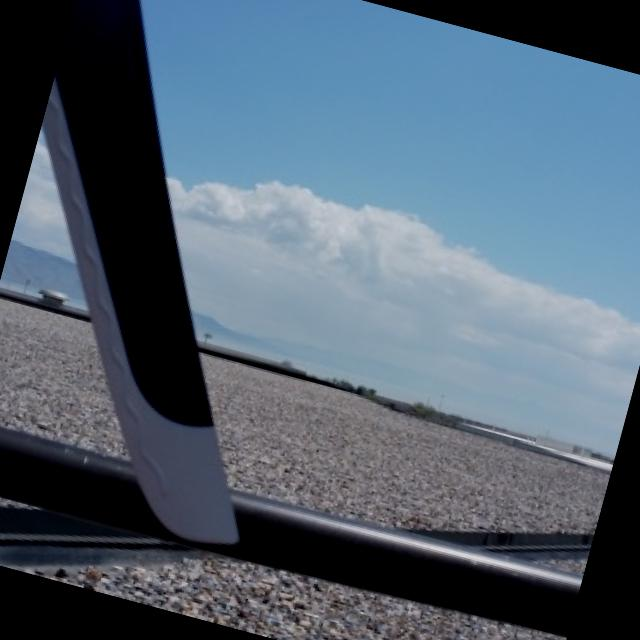healthy: (3, 147, 77, 295)
